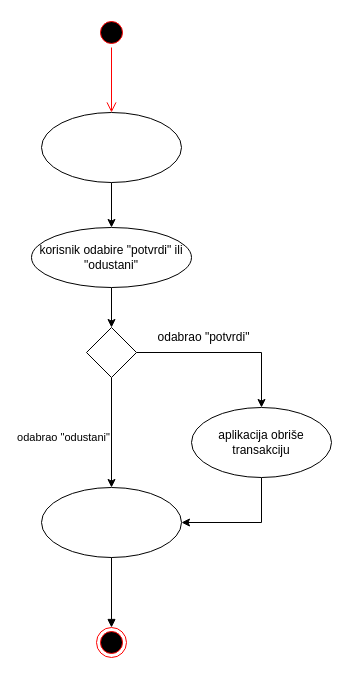
This 349x675 diagram has some shape labels left out. Here are the shapes that lost their labels. From the top down, the box of each, then its label:
(40, 112, 182, 182): aplikacija prikaže prozor "potvrdi brisanje"
(40, 486, 182, 558): aplikacija zatvori prozor "potvrdi brisanje"
